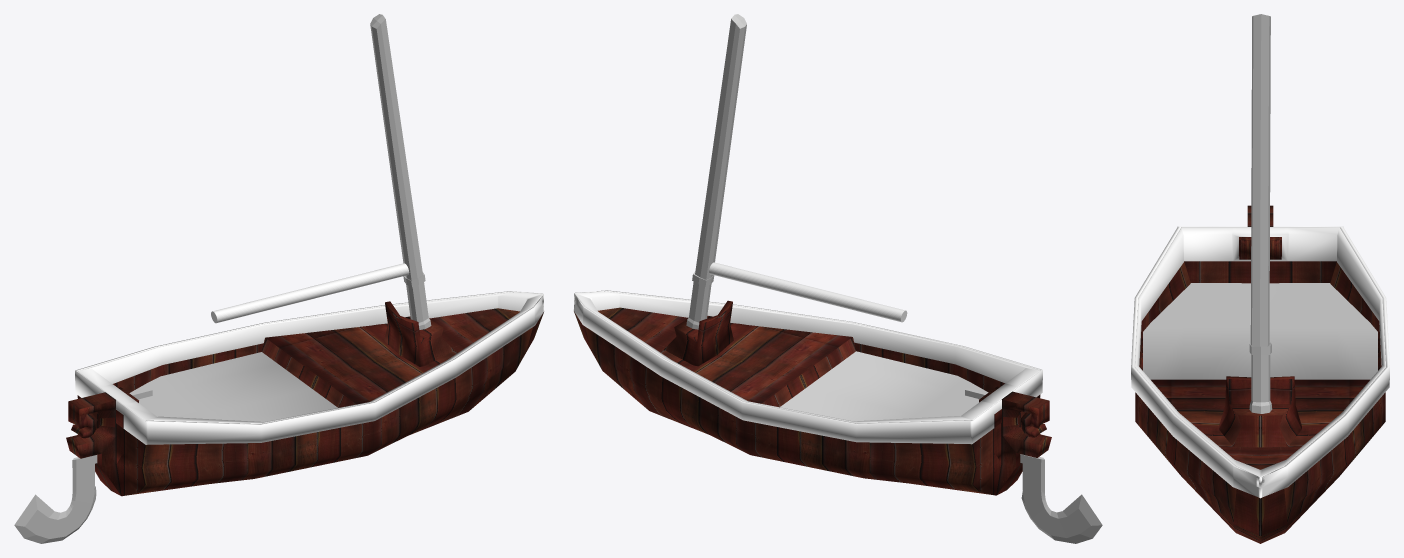
The model's file is boat.obj.
The picture shows the model from 3 angles, left to right: view 1: azimuth 30°, elevation 25°; view 2: azimuth 150°, elevation 25°; view 3: azimuth 270°, elevation 25°; orthographic projection. The views are drawn at different scales.
Parts seen in each view (by area): view 1: Kadlub, Maszt_Cube.002, Ster_Cube.001, Bom_Cylinder; view 2: Kadlub, Maszt_Cube.002, Ster_Cube.001, Bom_Cylinder; view 3: Kadlub, Maszt_Cube.002.
Part boxes in pixels (x1,y1,x2,y2): Kadlub: (66,291,544,496); Maszt_Cube.002: (370,14,431,329); Ster_Cube.001: (14,388,152,543); Bom_Cylinder: (211,263,409,323); Kadlub: (573,290,1051,495); Maszt_Cube.002: (686,14,746,329); Ster_Cube.001: (965,388,1102,543); Bom_Cylinder: (709,262,907,322); Kadlub: (1131,205,1389,543); Maszt_Cube.002: (1249,14,1272,413).
Size of the model in its own units: 5.12 by 4.13 by 1.85.
